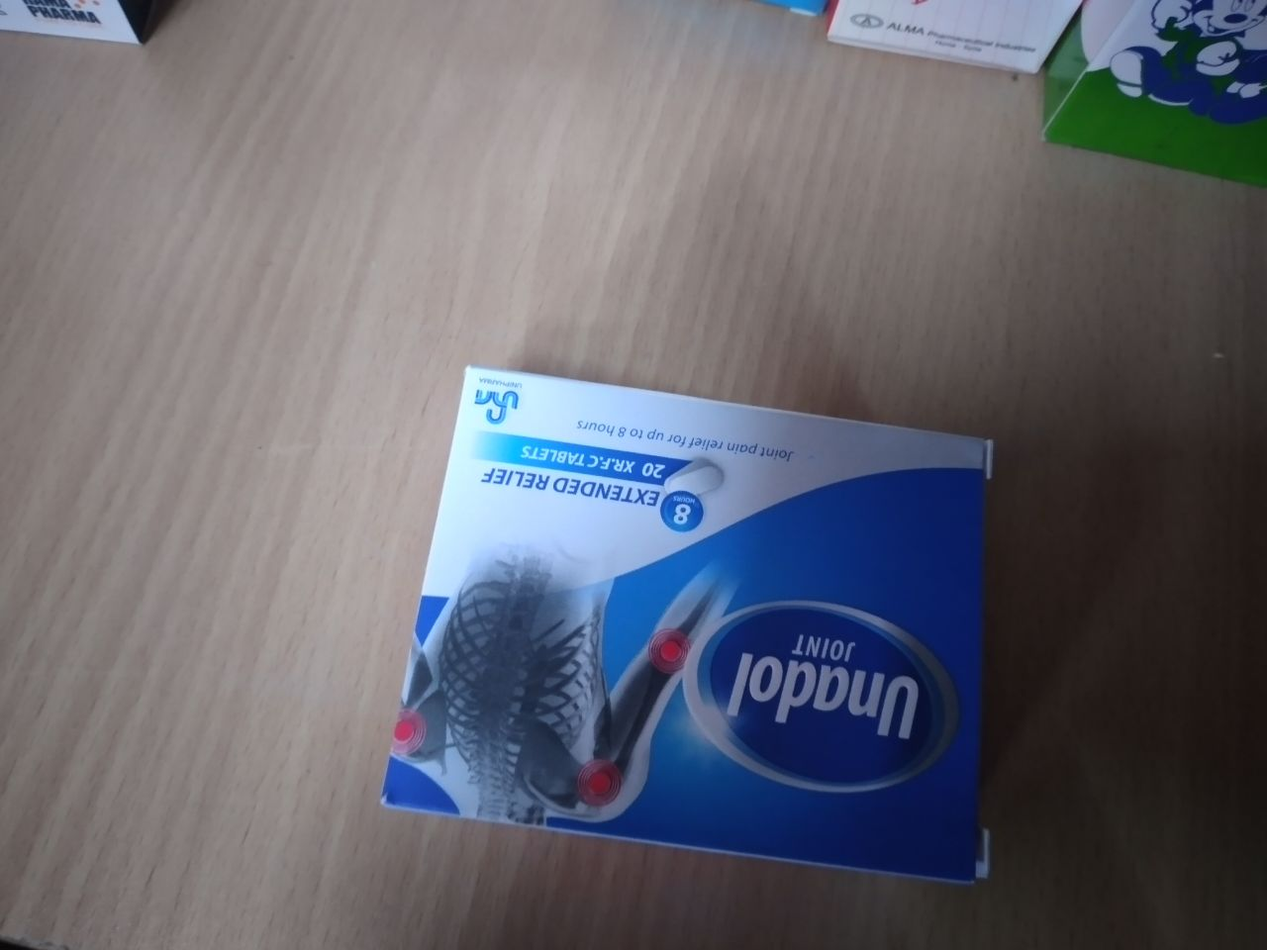Medicine: (366, 354, 1010, 901)
